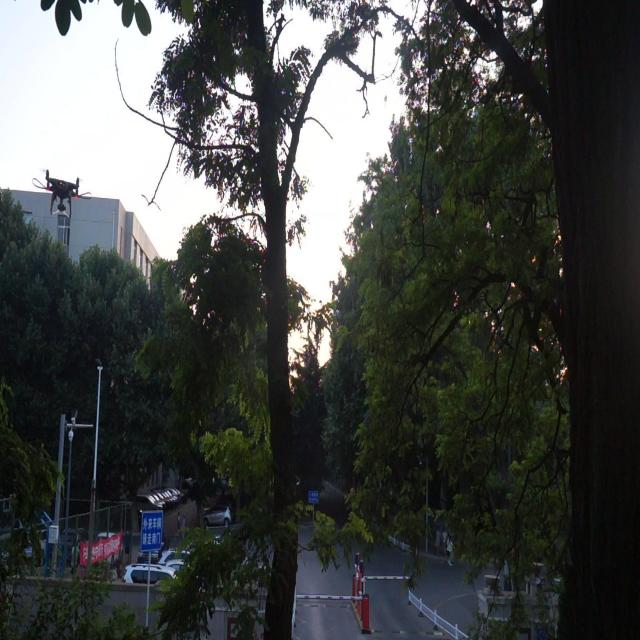UAV: (32, 168, 92, 219)
